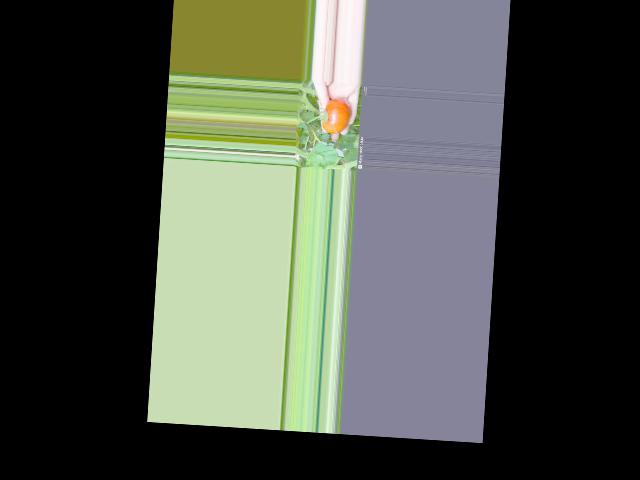tomato: (322, 96, 351, 134)
